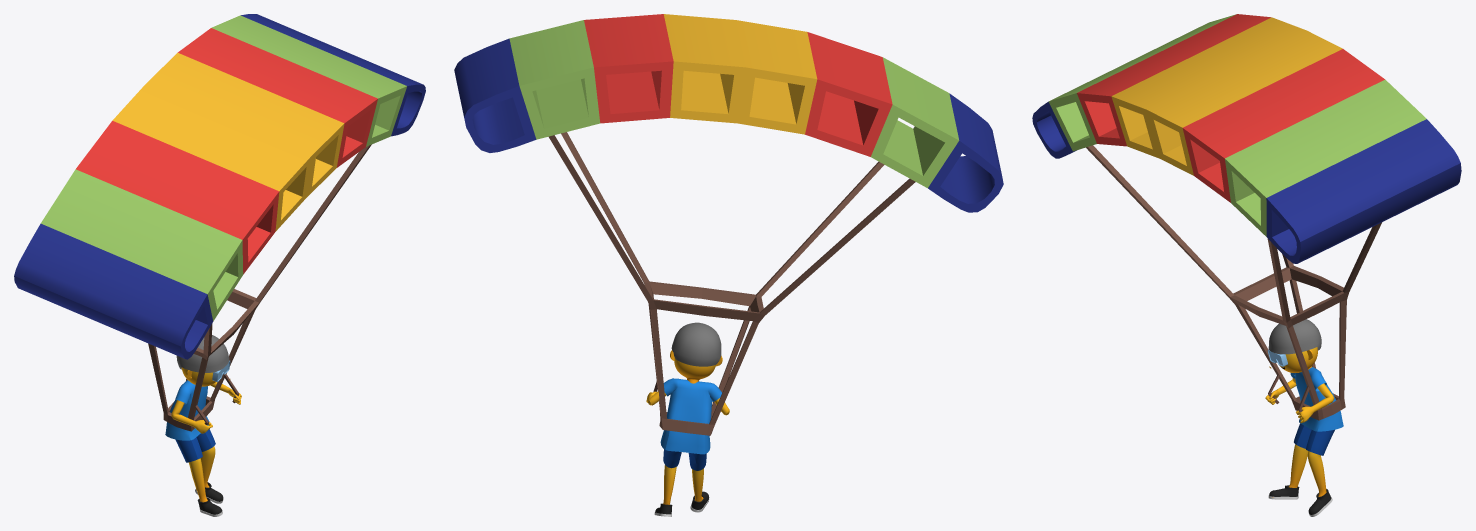
The model's file is parachute.fbx.
3 renders of one model, left to right at view 1: azimuth 30°, elevation 25°; view 2: azimuth 150°, elevation 25°; view 3: azimuth 270°, elevation 25°, orthographic. The views are drawn at different scales.
Visible parts, largest first — view 1: Cube.801; view 2: Cube.801; view 3: Cube.801.
Boxes of the visible parts, x1,y1,x2,y2 form: Cube.801: [14, 14, 425, 516]; Cube.801: [454, 14, 1003, 516]; Cube.801: [1032, 14, 1461, 516].
Size of the model in its own units: 242 by 221 by 190.
Materials: 1 (1 with a texture image).
